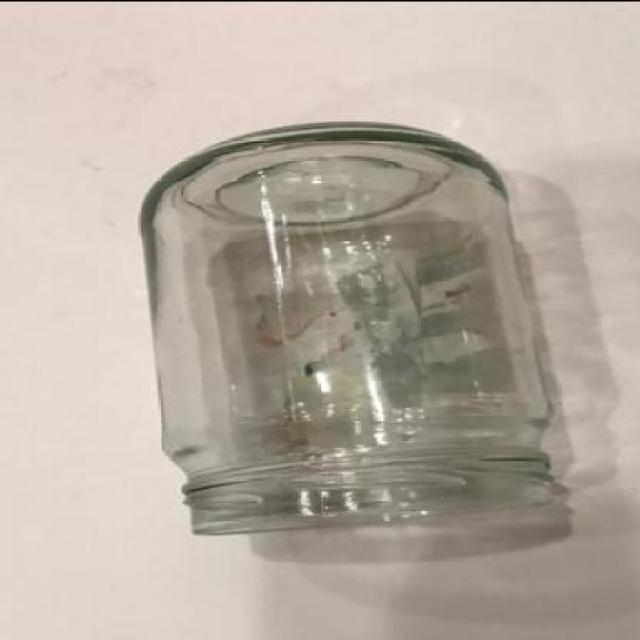glass: (135, 121, 560, 534)
